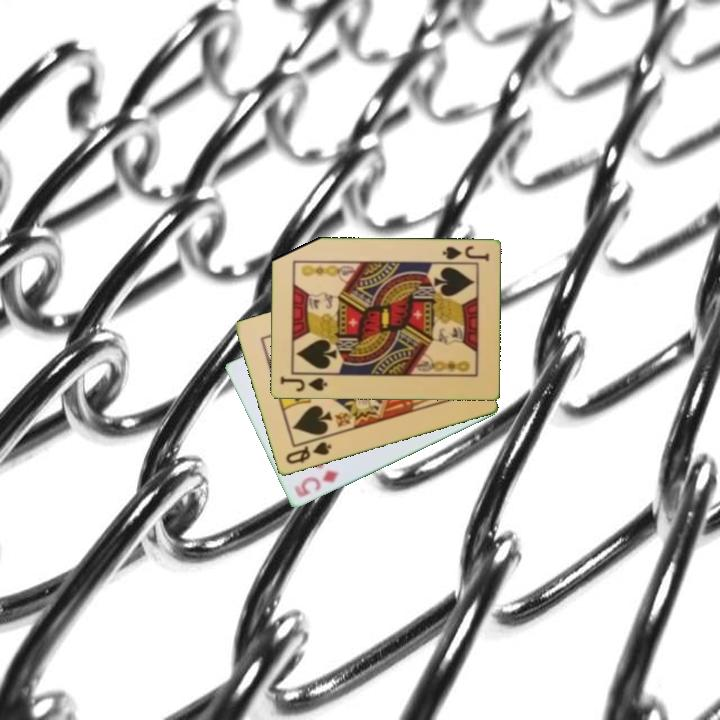5d: (290, 467, 342, 501)
Js: (437, 243, 492, 265), (276, 373, 330, 395)
Qs: (282, 438, 334, 467)
